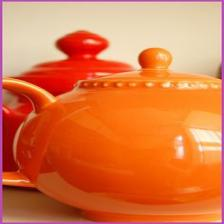orange: (3, 48, 222, 222)
